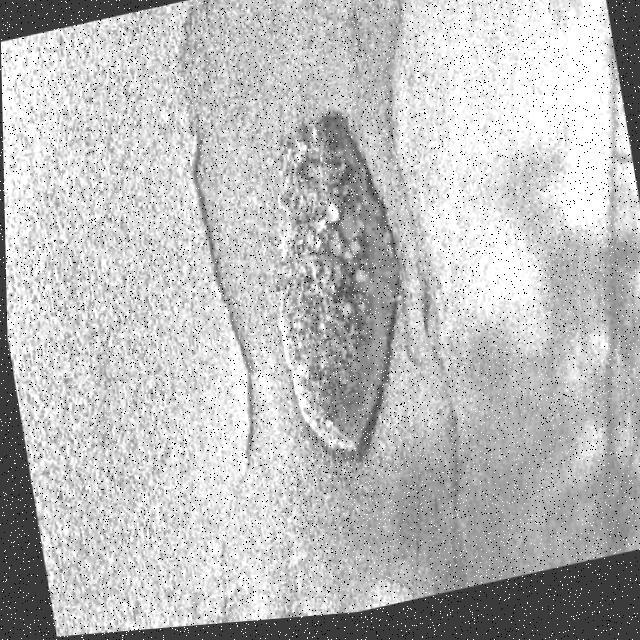pothole: (242, 101, 432, 486)
